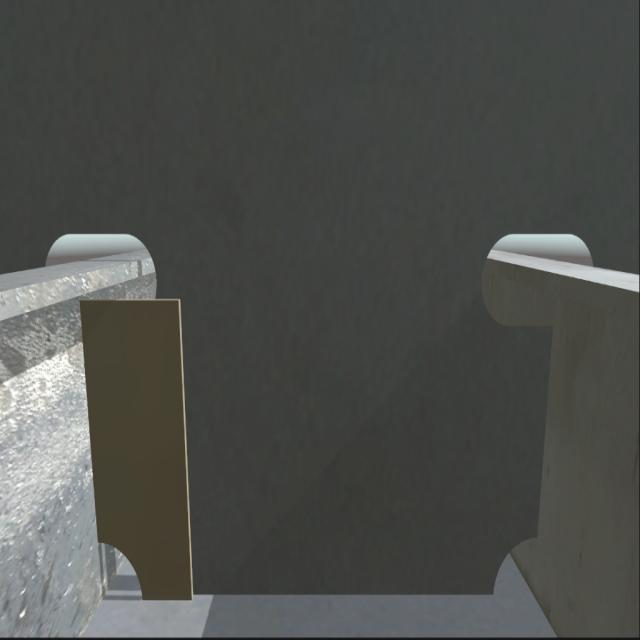fillet_hole: (102, 540, 148, 612), (495, 528, 537, 595)
fillet_yong_jeop_jang: (160, 584, 501, 612)
longi_yong_jeop_jang: (530, 326, 558, 550), (74, 298, 95, 561)
plate_CP01: (95, 300, 189, 602)
